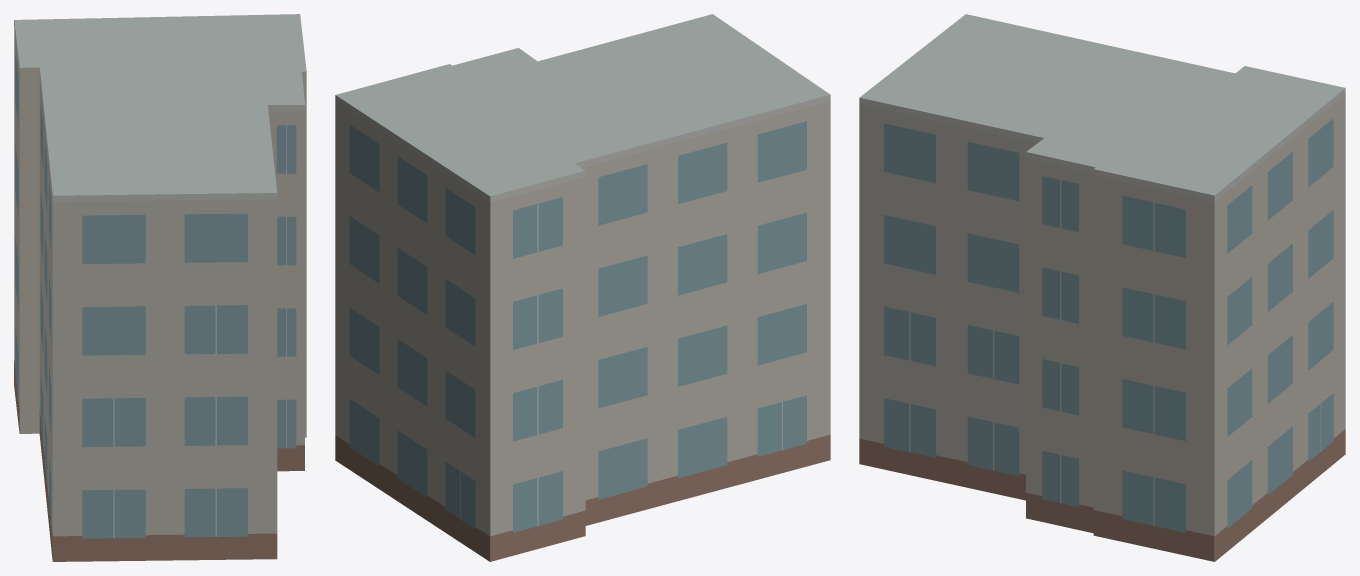
The model's file is survey-upis-32473829.glb.
3 renders of one model, left to right at view 1: azimuth 30°, elevation 25°; view 2: azimuth 150°, elevation 25°; view 3: azimuth 270°, elevation 25°, orthographic.
Visible parts, largest first — view 1: survey-upis-32473829.tmp; view 2: survey-upis-32473829.tmp; view 3: survey-upis-32473829.tmp.
Part boxes in pixels (bbox=[...]): survey-upis-32473829.tmp: bbox=[14, 14, 306, 561]; survey-upis-32473829.tmp: bbox=[335, 14, 830, 561]; survey-upis-32473829.tmp: bbox=[859, 14, 1345, 561].
Size of the model in its own units: 15.06 by 14.16 by 17.05.
